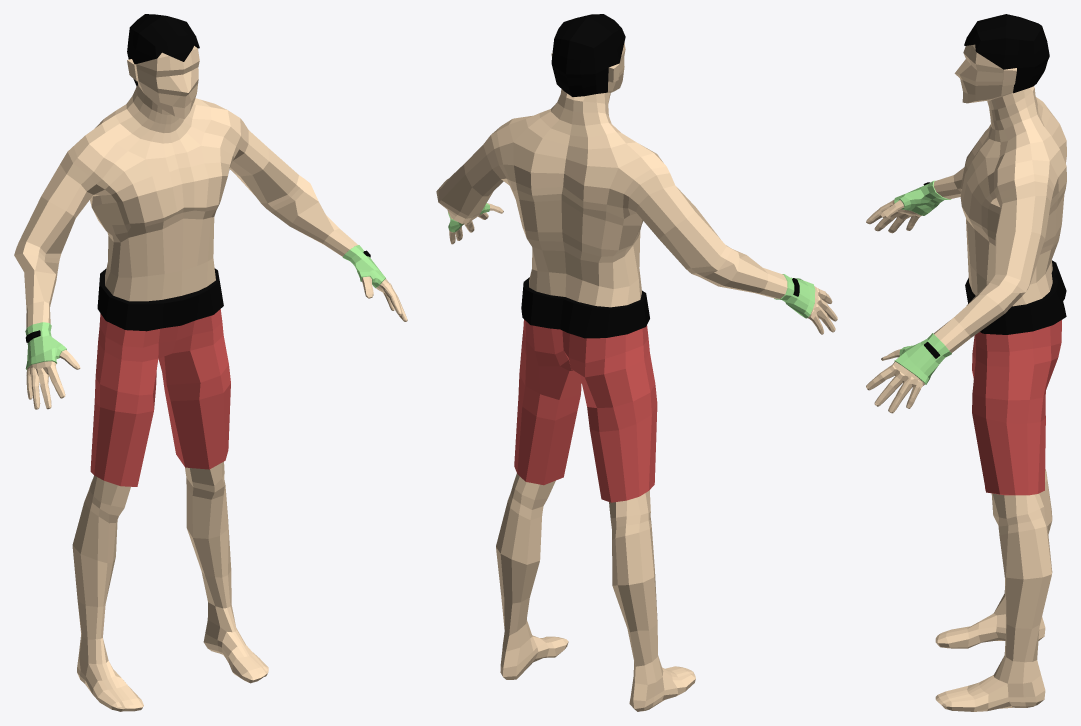
The model's file is rogue_mesh.glb.
The picture shows the model from 3 angles, left to right: view 1: azimuth 30°, elevation 25°; view 2: azimuth 150°, elevation 25°; view 3: azimuth 270°, elevation 25°; orthographic projection.
Parts seen in each view (by area): view 1: fighter_03.001; view 2: fighter_03.001; view 3: fighter_03.001.
Boxes of the visible parts, x1,y1,x2,y2 form: fighter_03.001: (14,14,407,711); fighter_03.001: (436,14,837,711); fighter_03.001: (866,14,1066,711).
Size of the model in its own units: 0.0128 by 0.0216 by 0.00596.
1 material, 1 textured.
